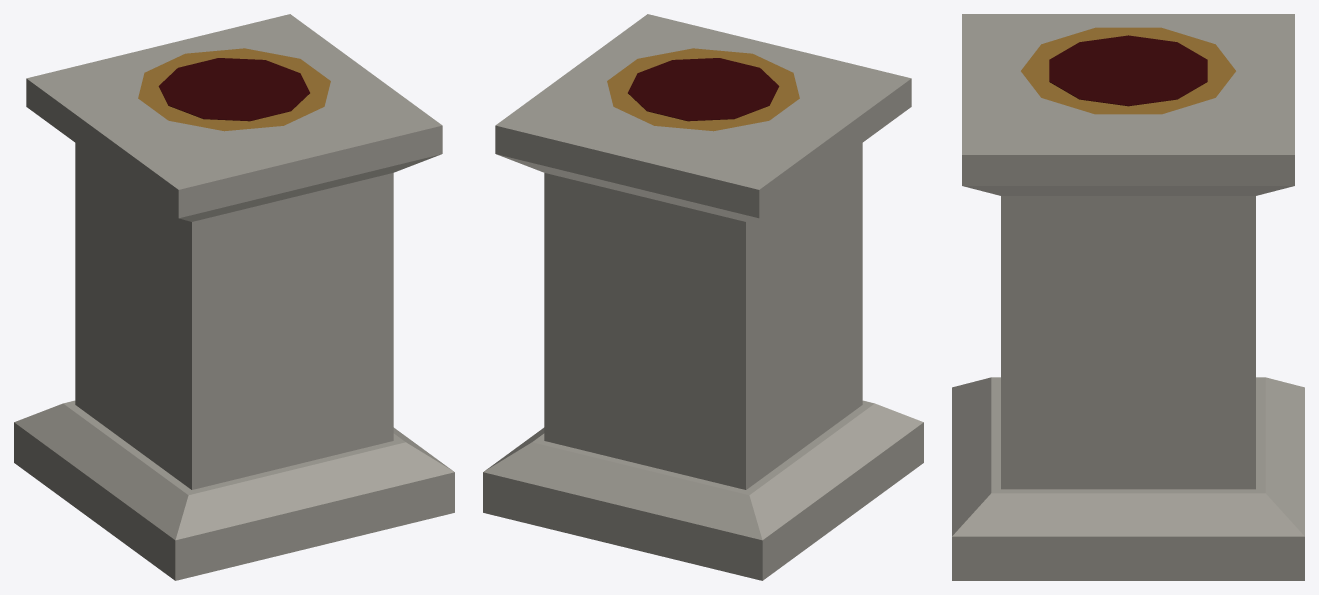
File: ReliquaryStand.fbx
3 renders of one model, left to right at view 1: azimuth 30°, elevation 25°; view 2: azimuth 150°, elevation 25°; view 3: azimuth 270°, elevation 25°, orthographic. The views are drawn at different scales.
Parts seen in each view (by area): view 1: ReliquaryStand; view 2: ReliquaryStand; view 3: ReliquaryStand.
Boxes of the visible parts, x1=… form: ReliquaryStand: x1=14, y1=14, x2=454, y2=580; ReliquaryStand: x1=483, y1=14, x2=923, y2=580; ReliquaryStand: x1=952, y1=14, x2=1304, y2=580.
Bounding box in the file's own units: 0.72 × 0.981 × 0.72.
